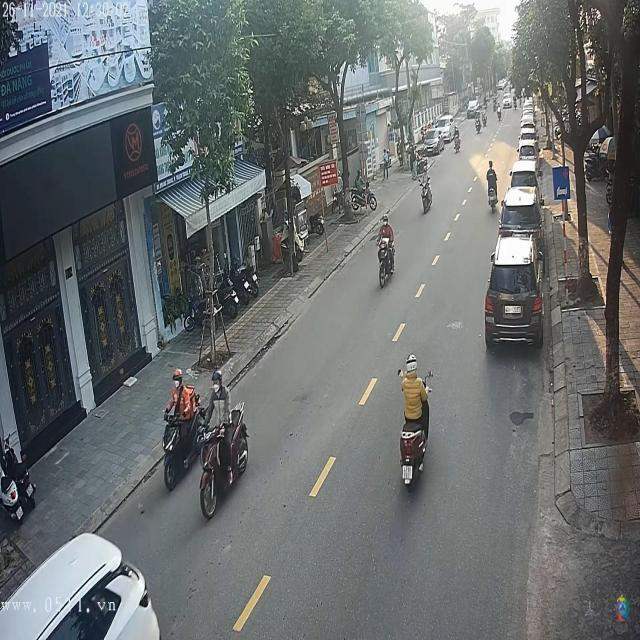car: (486, 232, 544, 348), (498, 189, 542, 237), (506, 159, 538, 197)
motorcycle: (195, 396, 251, 518), (161, 389, 199, 492), (400, 428, 427, 488), (378, 240, 396, 292), (420, 181, 434, 216)
